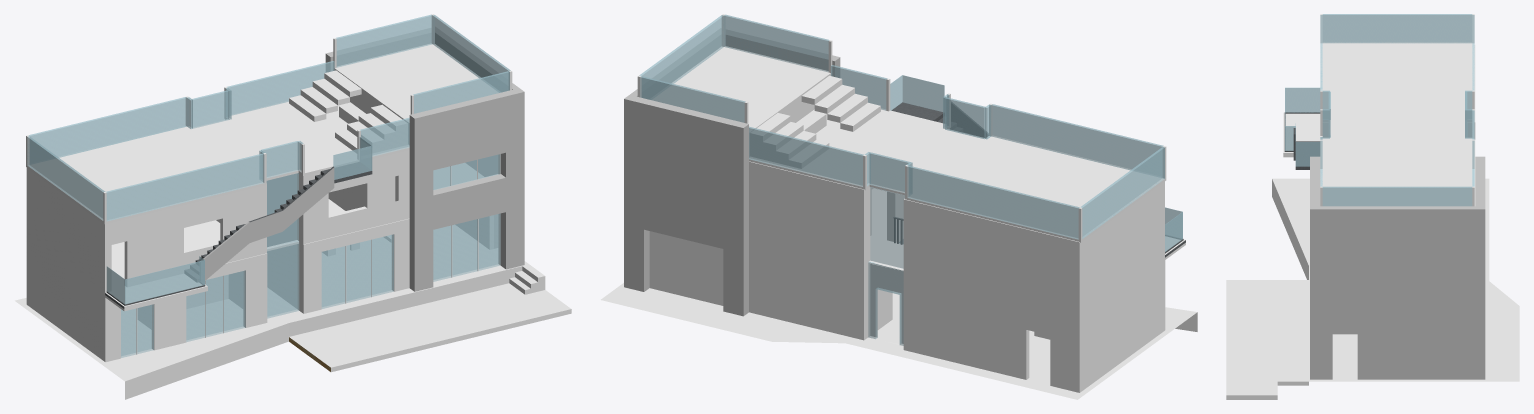
The picture shows the model from 3 angles, left to right: view 1: azimuth 30°, elevation 25°; view 2: azimuth 150°, elevation 25°; view 3: azimuth 270°, elevation 25°; orthographic projection. The views are drawn at different scales.
Visible parts, largest first — view 1: Root Node, 一层1020平面图_t3.dwg, 二层平面图1020_t3.dwg#1, 12202844, 13055527, 12203082, 12203092, 12203091, 12958415, 12203105, 12203089, 12203090 (+17 smaller); view 2: 一层1020平面图_t3.dwg, 二层平面图1020_t3.dwg#1, 12202844, 13055528, Root Node, 12203082, 12203091, 12203092, 13055481, 12203089, 12203100, 12203090 (+18 smaller); view 3: 132860, 12202844, Root Node, 12203082, 13055527, 12203090, 12203106, 13055482, 二层平面图1020_t3.dwg#1, 12958431, 12958437, 13055528 (+2 smaller).
Part boxes in pixels (x1,y1,x2,y2): Root Node: [15, 225, 571, 399]; 一层1020平面图_t3.dwg: [26, 213, 500, 362]; 二层平面图1020_t3.dwg#1: [26, 150, 500, 311]; 12202844: [26, 101, 409, 224]; 13055527: [409, 83, 524, 291]; 12203082: [324, 44, 498, 144]; 12203092: [106, 153, 264, 221]; 12203091: [28, 97, 186, 164]; 12958415: [105, 166, 334, 308]; 12203105: [336, 14, 432, 67]; 12203089: [227, 61, 334, 115]; 12203090: [27, 136, 105, 220]; 一层1020平面图_t3.dwg: [649, 231, 1165, 392]; 二层平面图1020_t3.dwg#1: [749, 161, 1185, 319]; 12202844: [749, 108, 1166, 242]; 13055528: [624, 100, 728, 291]; Root Node: [601, 283, 1197, 399]; 12203082: [652, 46, 851, 156]; 12203091: [907, 165, 1079, 239]; 12203092: [991, 104, 1163, 177]; 13055481: [723, 119, 748, 316]; 12203089: [749, 126, 863, 186]; 12203100: [724, 14, 829, 71]; 12203090: [1080, 147, 1164, 238]; 132860: [1332, 206, 1475, 379]; 12202844: [1320, 42, 1474, 167]; Root Node: [1226, 178, 1519, 399]; 12203082: [1320, 167, 1474, 205]; 13055527: [1310, 156, 1332, 379]; 12203090: [1322, 14, 1472, 43]; 12203106: [1322, 186, 1472, 206]; 13055482: [1475, 200, 1485, 379]; 二层平面图1020_t3.dwg#1: [1283, 45, 1475, 205]; 12958431: [1285, 87, 1320, 112]; 12958437: [1295, 142, 1320, 166]; 13055528: [1475, 165, 1485, 200].
Bounding box in the file's own units: 19.19 × 9.1 × 11.7.
929 materials, 233 textured.
